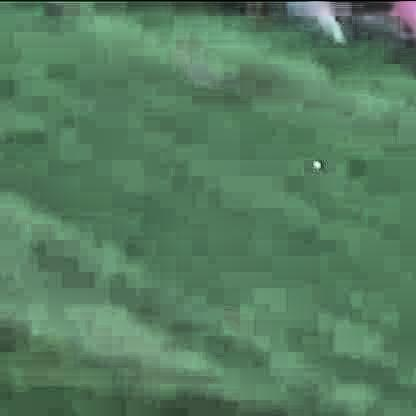golfball: (308, 158, 319, 168)
